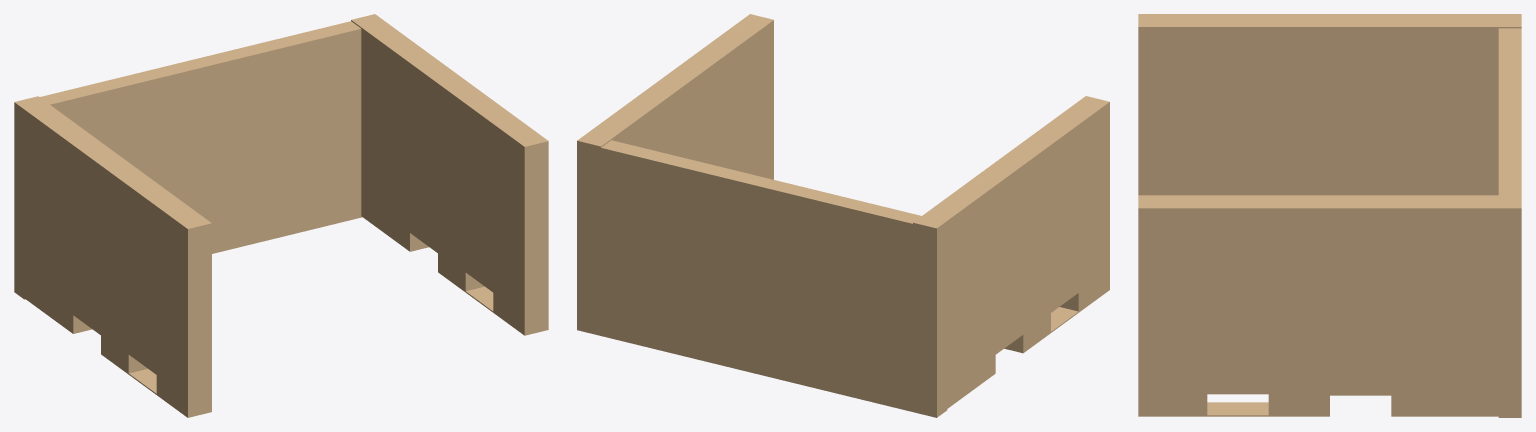
File: tinker.obj
3 views of the same model, side by side, from view 1: azimuth 30°, elevation 25°; view 2: azimuth 150°, elevation 25°; view 3: azimuth 270°, elevation 25° (orthographic). The views are drawn at different scales.
Parts seen in each view (by area): view 1: obj_0; view 2: obj_0; view 3: obj_0.
Boxes of the visible parts, bbox=[...] form: obj_0: bbox=[14, 14, 548, 417]; obj_0: bbox=[577, 14, 1109, 417]; obj_0: bbox=[1138, 14, 1521, 417].
Size of the model in its own units: 300 by 151 by 250.
